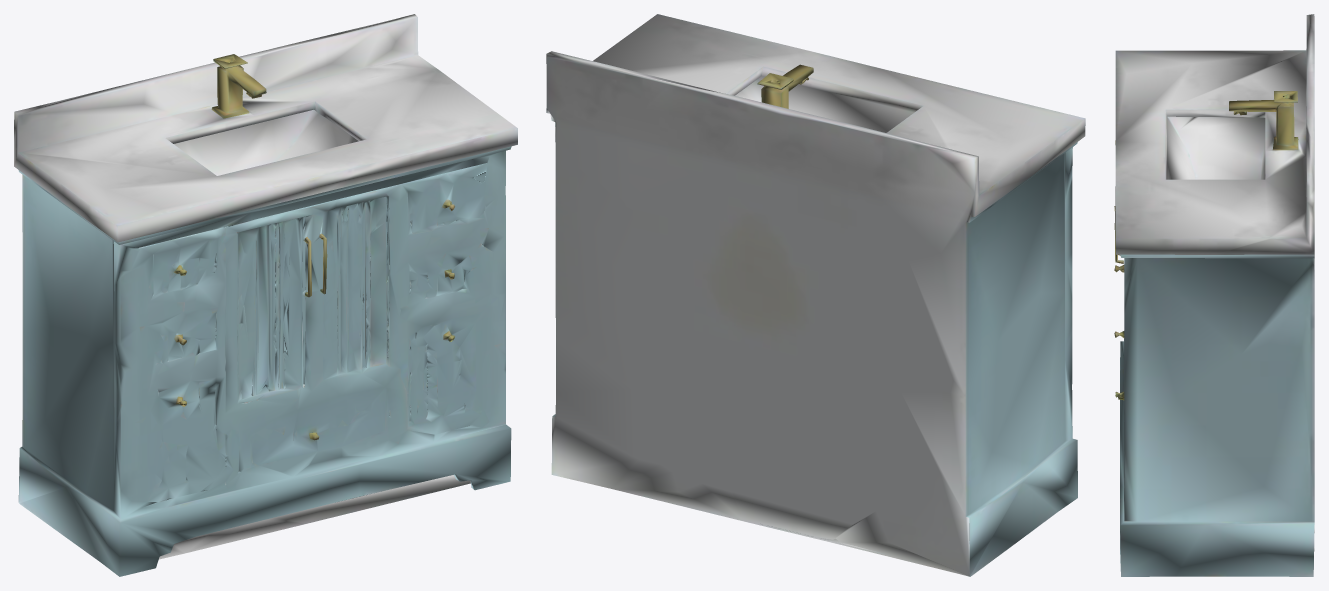
The model's file is avPh5YuQ3C1Y8By8zAyrM.glb.
The picture shows the model from 3 angles, left to right: view 1: azimuth 30°, elevation 25°; view 2: azimuth 150°, elevation 25°; view 3: azimuth 270°, elevation 25°; orthographic projection. The views are drawn at different scales.
Parts seen in each view (by area): view 1: geometry_0; view 2: geometry_0; view 3: geometry_0.
Part boxes in pixels (x1,y1,x2,y2): geometry_0: (14,14,517,576); geometry_0: (546,14,1085,576); geometry_0: (1114,14,1314,576).
Size of the model in its own units: 1 by 0.968 by 0.4517.
Materials: 1 (1 with a texture image).
